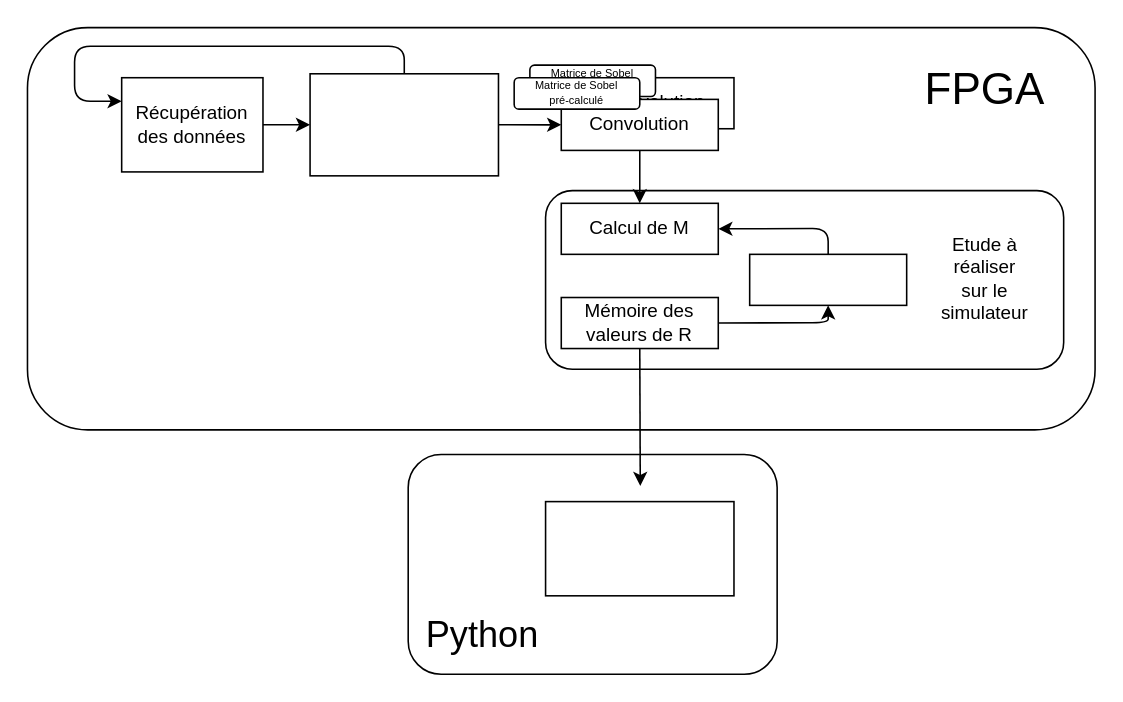
This 1123x702 diagram has some shape labels left out. The shapes that lost their labels are listed below. From the top down, each one's centre as x and y in pixels, then its label:
(403,124): Appel des données
(827,279): Actualisation du Seuil
(639,548): Descripteur
